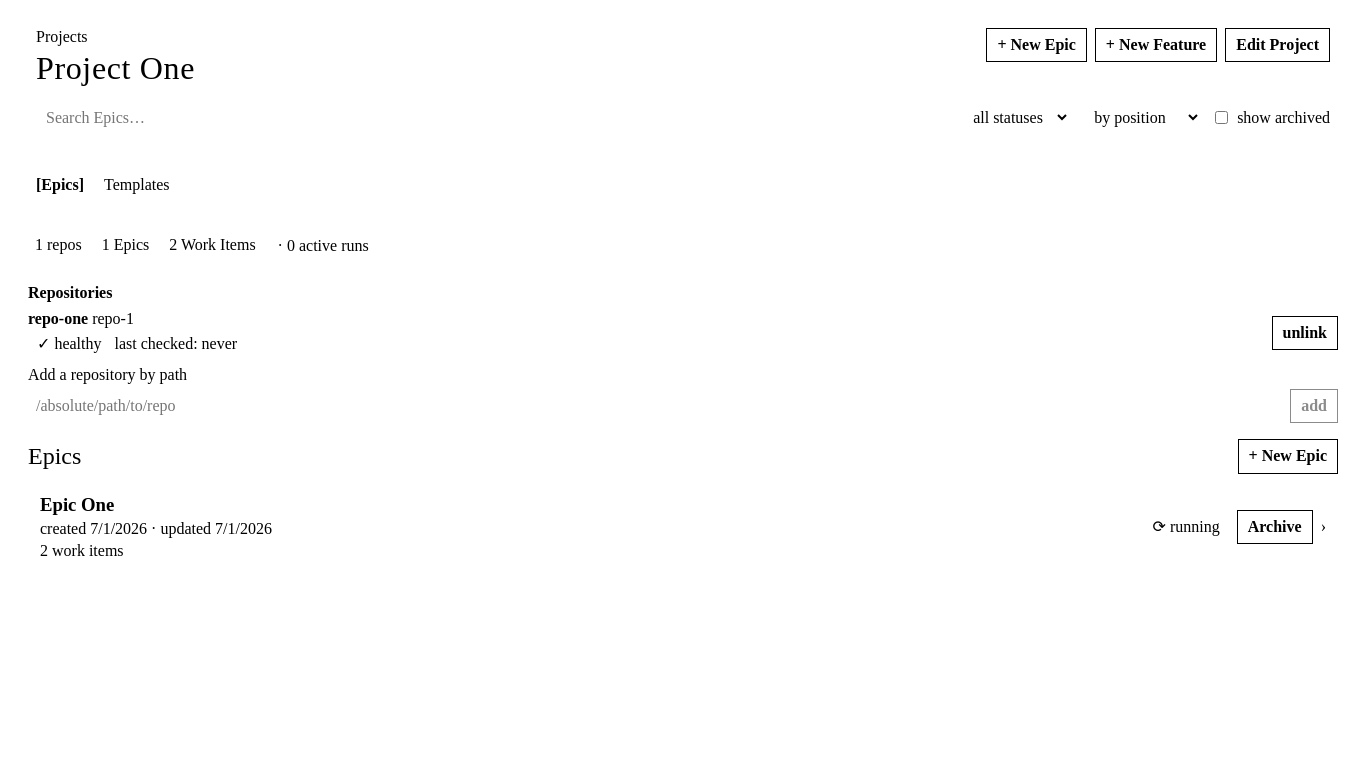
Test: ProjectDetailPage archived visibility (PF-17) › renders archived epics attenuated with a Restore action when the toggle is on
Click the checkbox named "Show archived Epics" at (1222, 118), box [1215,111,1228,124]
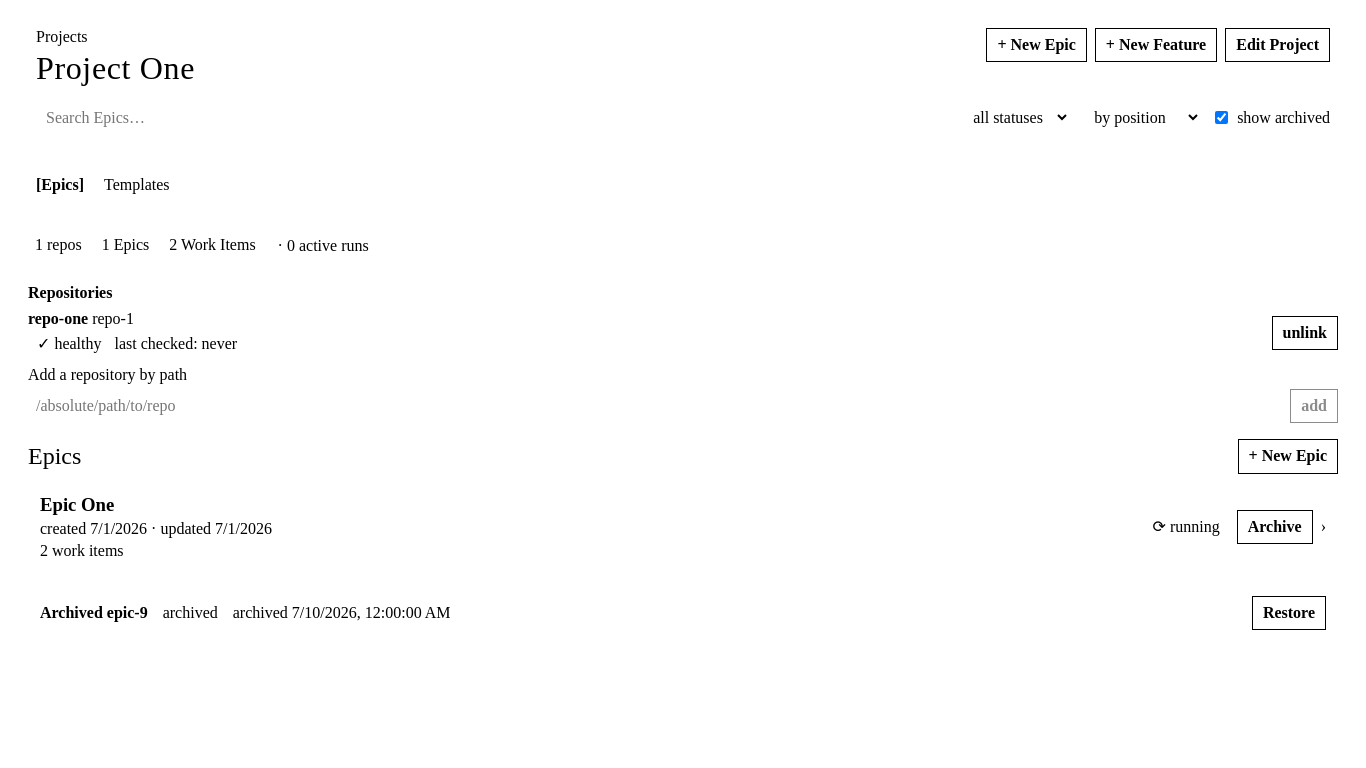
Expected: the element named "Archived epic-9 (archived)" is shown, [40,596,1326,630]
Expected: the element named "Archived epic-9 (archived)" shows "Archived", [163,604,218,621]
Expected: the button "Restore" is shown, [1252,596,1326,630]
